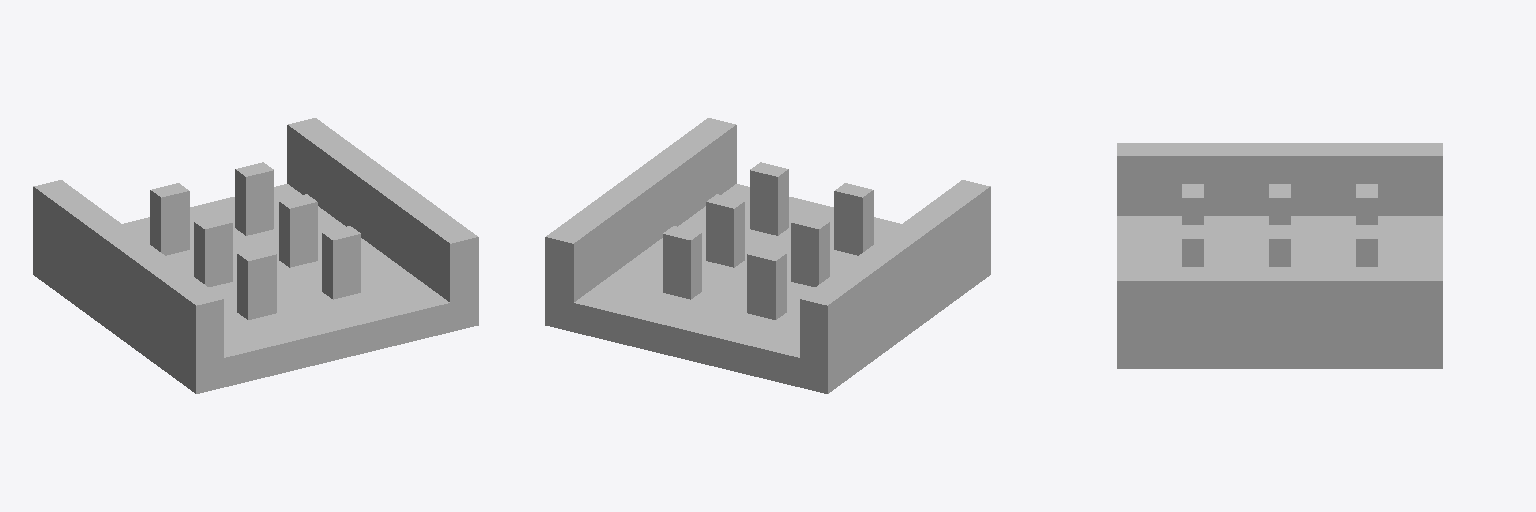
The model's file is Straight6Pins.obj.
3 views of the same model, side by side, from view 1: azimuth 30°, elevation 25°; view 2: azimuth 150°, elevation 25°; view 3: azimuth 270°, elevation 25° (orthographic).
Visible parts, largest first — view 1: Straight6Pins; view 2: Straight6Pins; view 3: Straight6Pins.
Part boxes in pixels (x1,y1,x2,y2): Straight6Pins: (33,118,478,393); Straight6Pins: (545,118,990,393); Straight6Pins: (1117,143,1442,368).
Bounding box in the file's own units: 2 × 0.6 × 2.